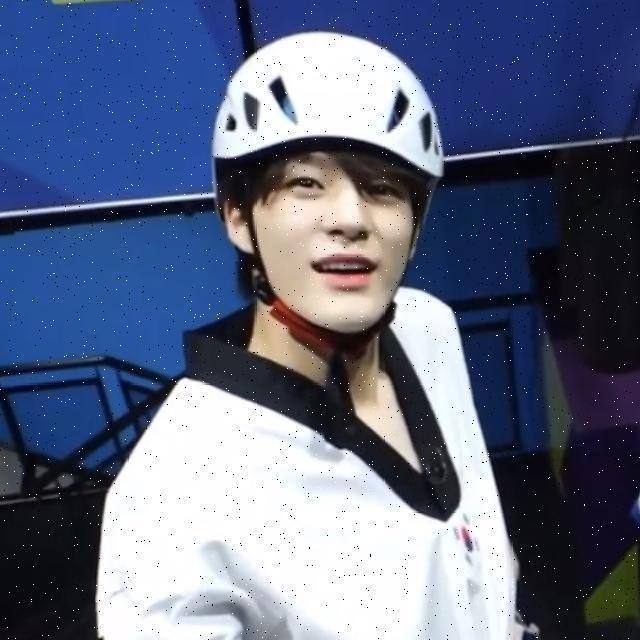helmet: (209, 30, 444, 451)
